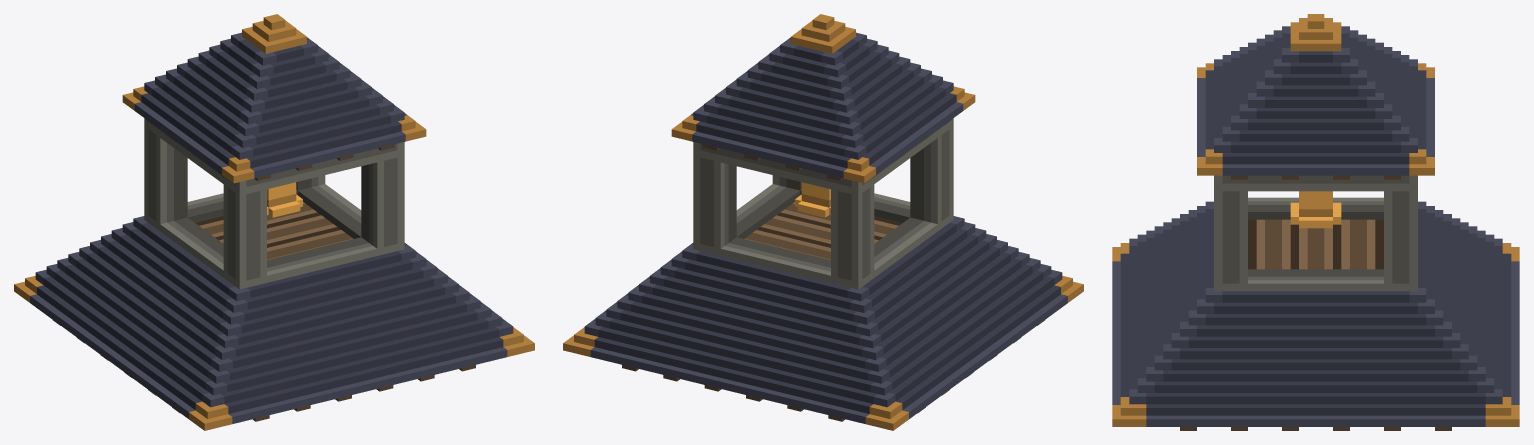
The model's file is struct-0-sculpture_duke.obj.
3 renders of one model, left to right at view 1: azimuth 30°, elevation 25°; view 2: azimuth 150°, elevation 25°; view 3: azimuth 270°, elevation 25°, orthographic. The views are drawn at different scales.
Parts seen in each view (by area): view 1: sculpture_duke; view 2: sculpture_duke; view 3: sculpture_duke.
Boxes of the visible parts, <box> form: sculpture_duke: <box>14,14,534,430</box>; sculpture_duke: <box>563,14,1083,430</box>; sculpture_duke: <box>1112,14,1519,430</box>.
Size of the model in its own units: 4.8 by 4.3 by 4.8.
Materials: 1 (1 with a texture image).
